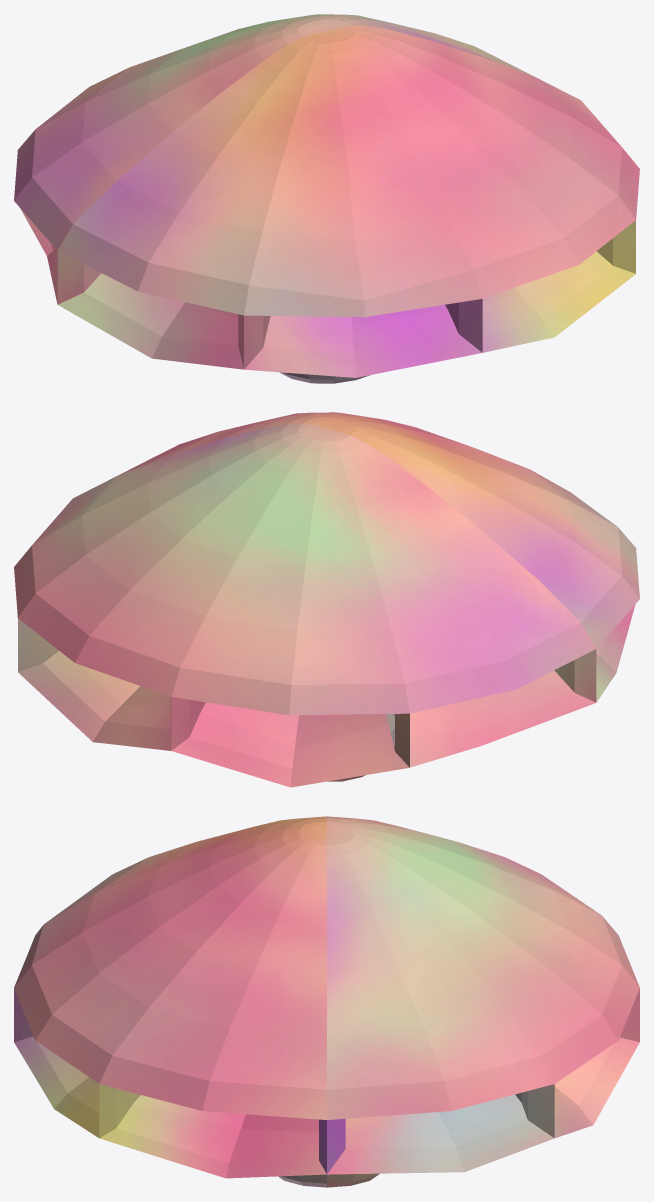
File: hongo7.glb
3 views of the same model, one above another, from view 1: azimuth 30°, elevation 25°; view 2: azimuth 150°, elevation 25°; view 3: azimuth 270°, elevation 25° (orthographic).
Visible parts, largest first — view 1: hongo_7; view 2: hongo_7; view 3: hongo_7.
Boxes of the visible parts, x1,y1,x2,y2 form: hongo_7: (14, 14, 639, 383); hongo_7: (14, 412, 639, 787); hongo_7: (14, 816, 639, 1187).
Size of what is drawn, in the model's own units: 5 by 3 by 5.
1 material, 1 textured.
